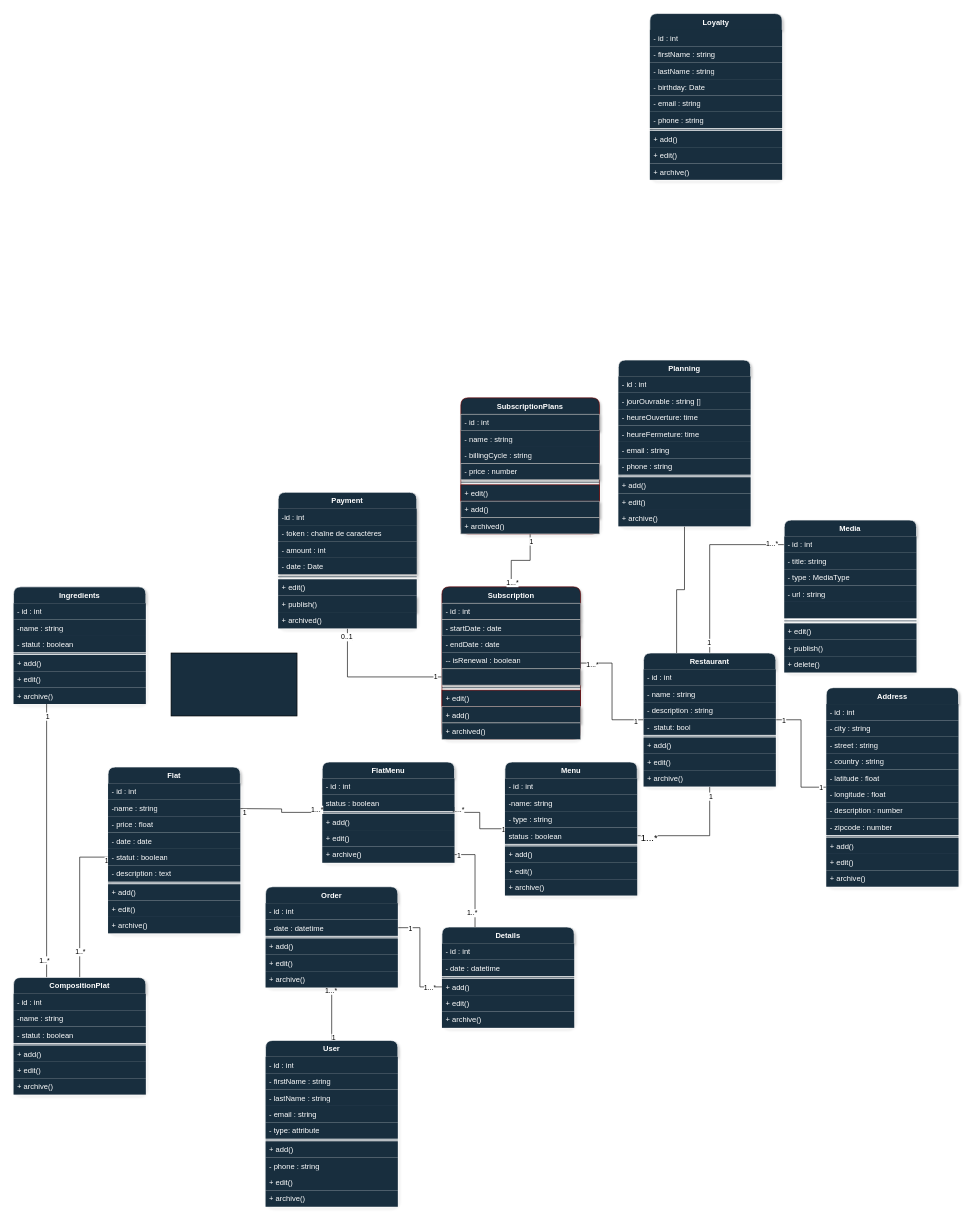
Some shapes in this 973 by 1222 pixel diagram are drawn without their labels. Here are the shapes that lost their labels. From the top down, the centre of each, then its label:
[233,684]: EnumPaymentStatut PAID = PAID PENDING = PENDING VERIFIED = VERIFIED ANY = ANY
[511,678]: - statut : EnumSubscriptionStatut
